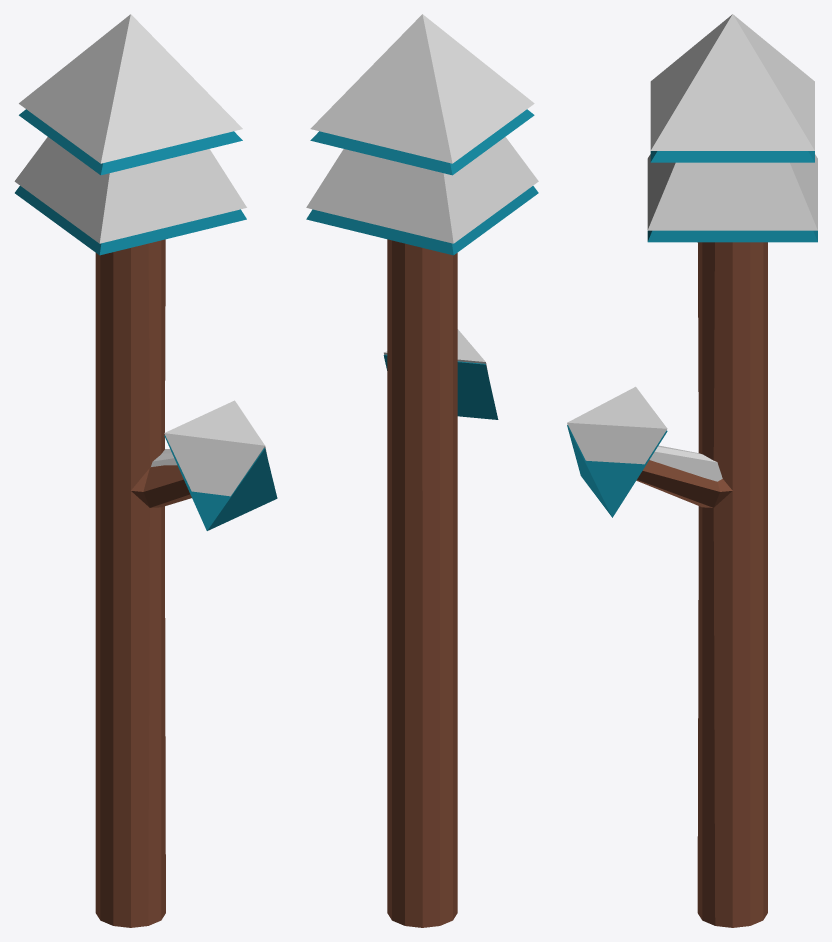
The model's file is Tree_25_winter_blue_mat.fbx.
3 views of the same model, side by side, from view 1: azimuth 30°, elevation 25°; view 2: azimuth 150°, elevation 25°; view 3: azimuth 270°, elevation 25° (orthographic).
Parts seen in each view (by area): view 1: Tree_25_winter_blue_mat; view 2: Tree_25_winter_blue_mat; view 3: Tree_25_winter_blue_mat.
Part boxes in pixels (left/top/right/bottom): Tree_25_winter_blue_mat: left=14, top=14, right=277, bottom=927; Tree_25_winter_blue_mat: left=306, top=14, right=538, bottom=927; Tree_25_winter_blue_mat: left=567, top=14, right=817, bottom=927.
Size of the model in its own units: 58.32 by 312 by 79.03.
